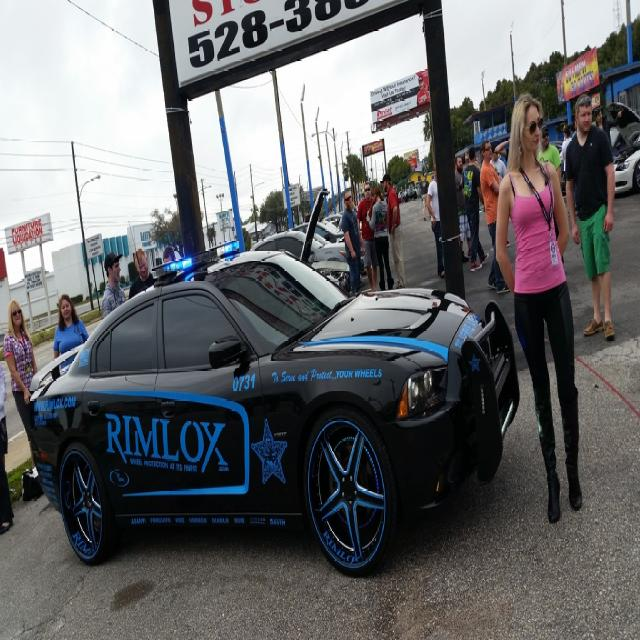car: (29, 219, 520, 573)
